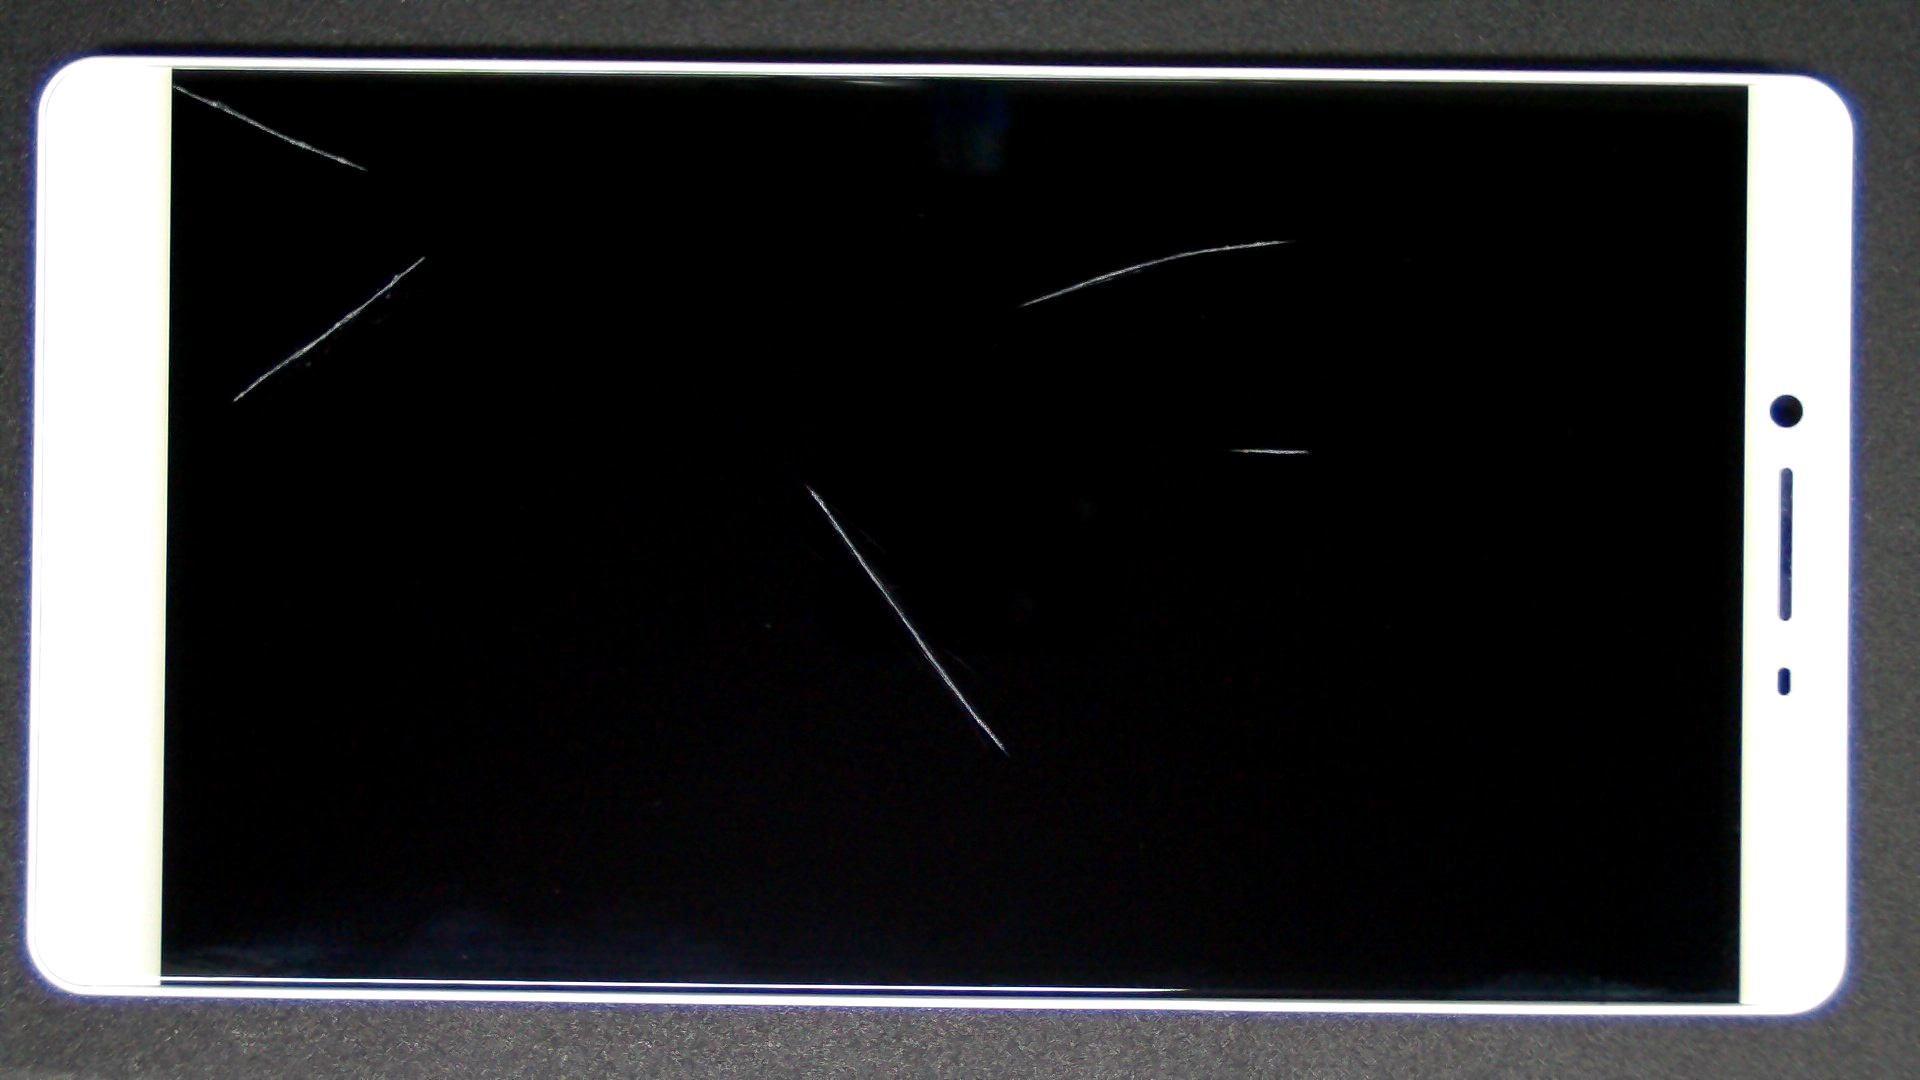oil: (633, 223, 1895, 671), (404, 241, 1211, 725), (638, 119, 1913, 359), (212, 127, 633, 384), (87, 42, 261, 128)
